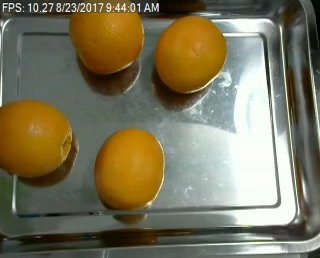Orange: (153, 14, 227, 92), (95, 130, 165, 212), (1, 100, 73, 178), (68, 11, 143, 74)
